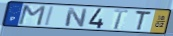4: (88, 8, 105, 29)
I: (43, 6, 55, 27)
M: (17, 4, 48, 27)
N: (64, 7, 89, 28)
T: (134, 10, 153, 32), (112, 8, 130, 30)
